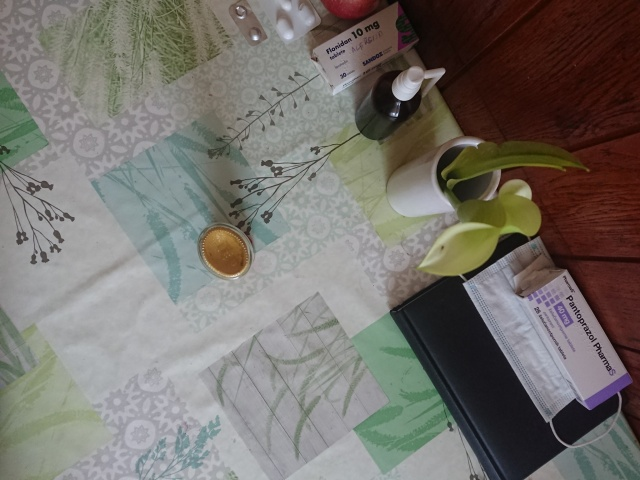Kotanyi Curry Spices Mix 70g: (194, 219, 256, 284)
